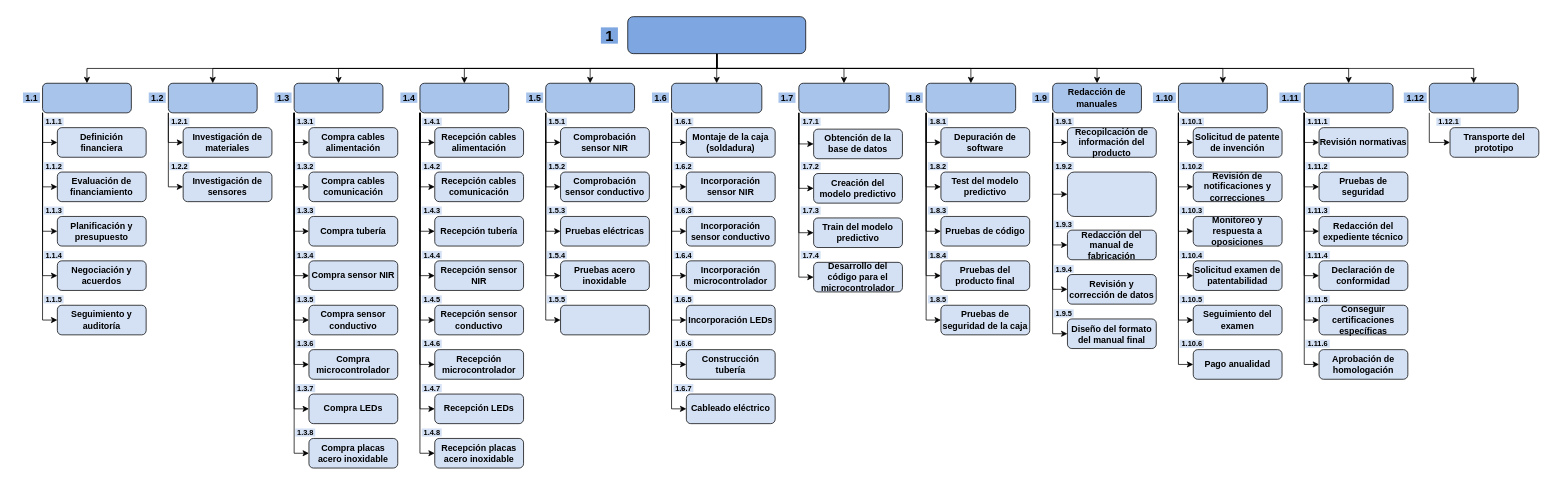
The diagram is 1552 pixels wide and 481 high, and some of its shapes have lost their labels. Each missing label, with the centre of its shape:
"Compra hardware" goes at pixel 338 98.
"Construcción del prototipo" goes at pixel 716 98.
"Depuración de software y pruebas" goes at pixel 970 98.
"Desarrollo del software" goes at pixel 843 98.
"Financiación" goes at pixel 86 98.
"Homologación" goes at pixel 1348 98.
"Investigación de hardware" goes at pixel 212 98.
"Modernización y sensorización del sistema de ordeño" goes at pixel 716 35.
"Patentación" goes at pixel 1222 98.
"Pruebas tubería" goes at pixel 604 320.
"Realización de pruebas" goes at pixel 590 98.
"Recepción hardware" goes at pixel 464 98.
"Redacción del manual de instalación, uso y mantenimiento" goes at pixel 1111 193.
"Transporte" goes at pixel 1473 98.
